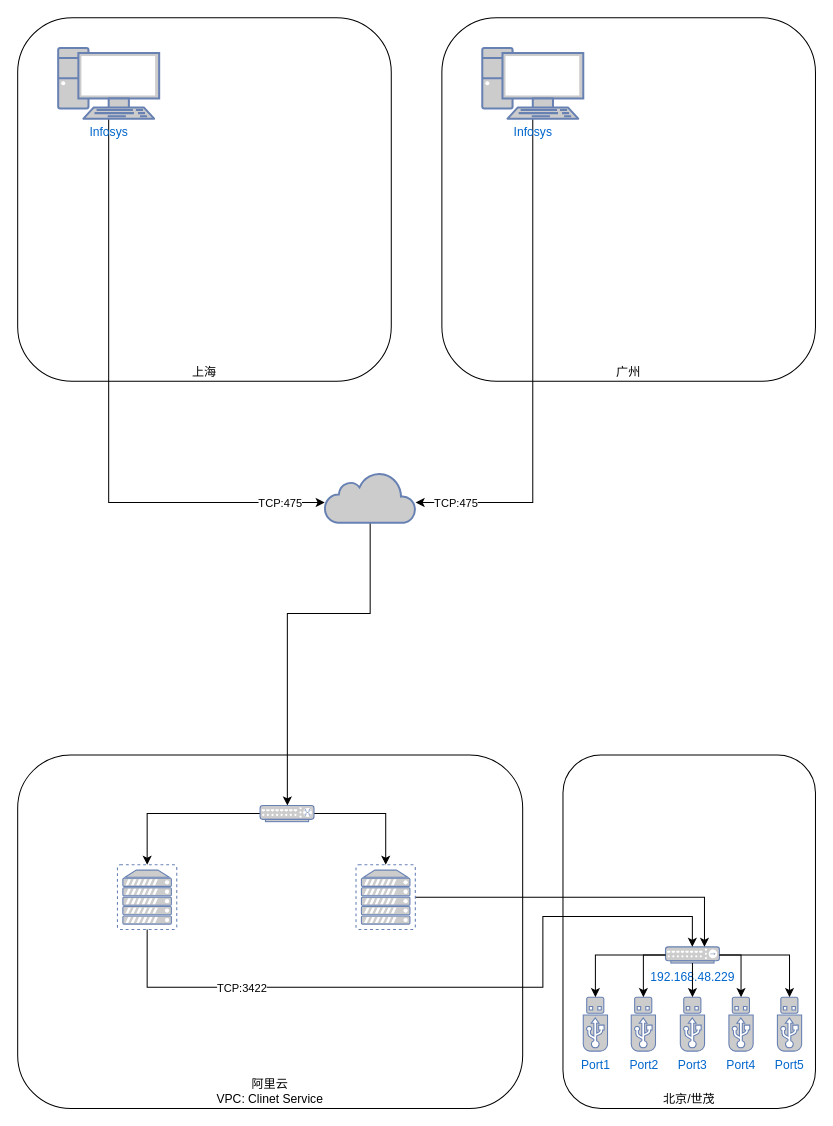
The diagram is 833 pixels wide and 1126 high, and some of its shapes have lost their labels. The shapes that lost their labels are listed below. From the top down, each one's centre as x and y in pixels, then its label:
point 287,813: VSW:client-service-sw-vlan2107
point 146,896: 公IP:59.110.53.216 私IP:10.101.7.101
point 385,896: 公IP:47.93.14.123 私IP:10.101.7.102
